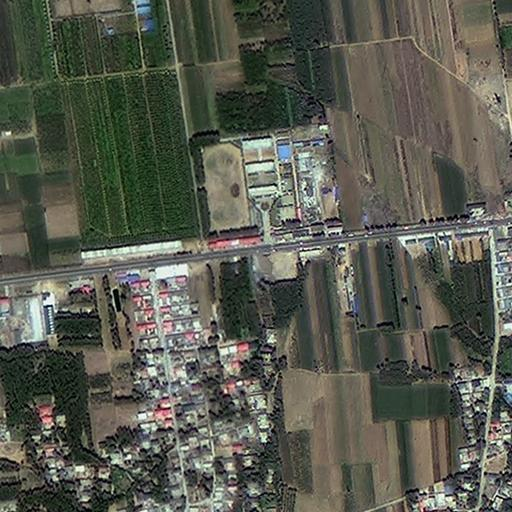school: (196, 133, 297, 238)
